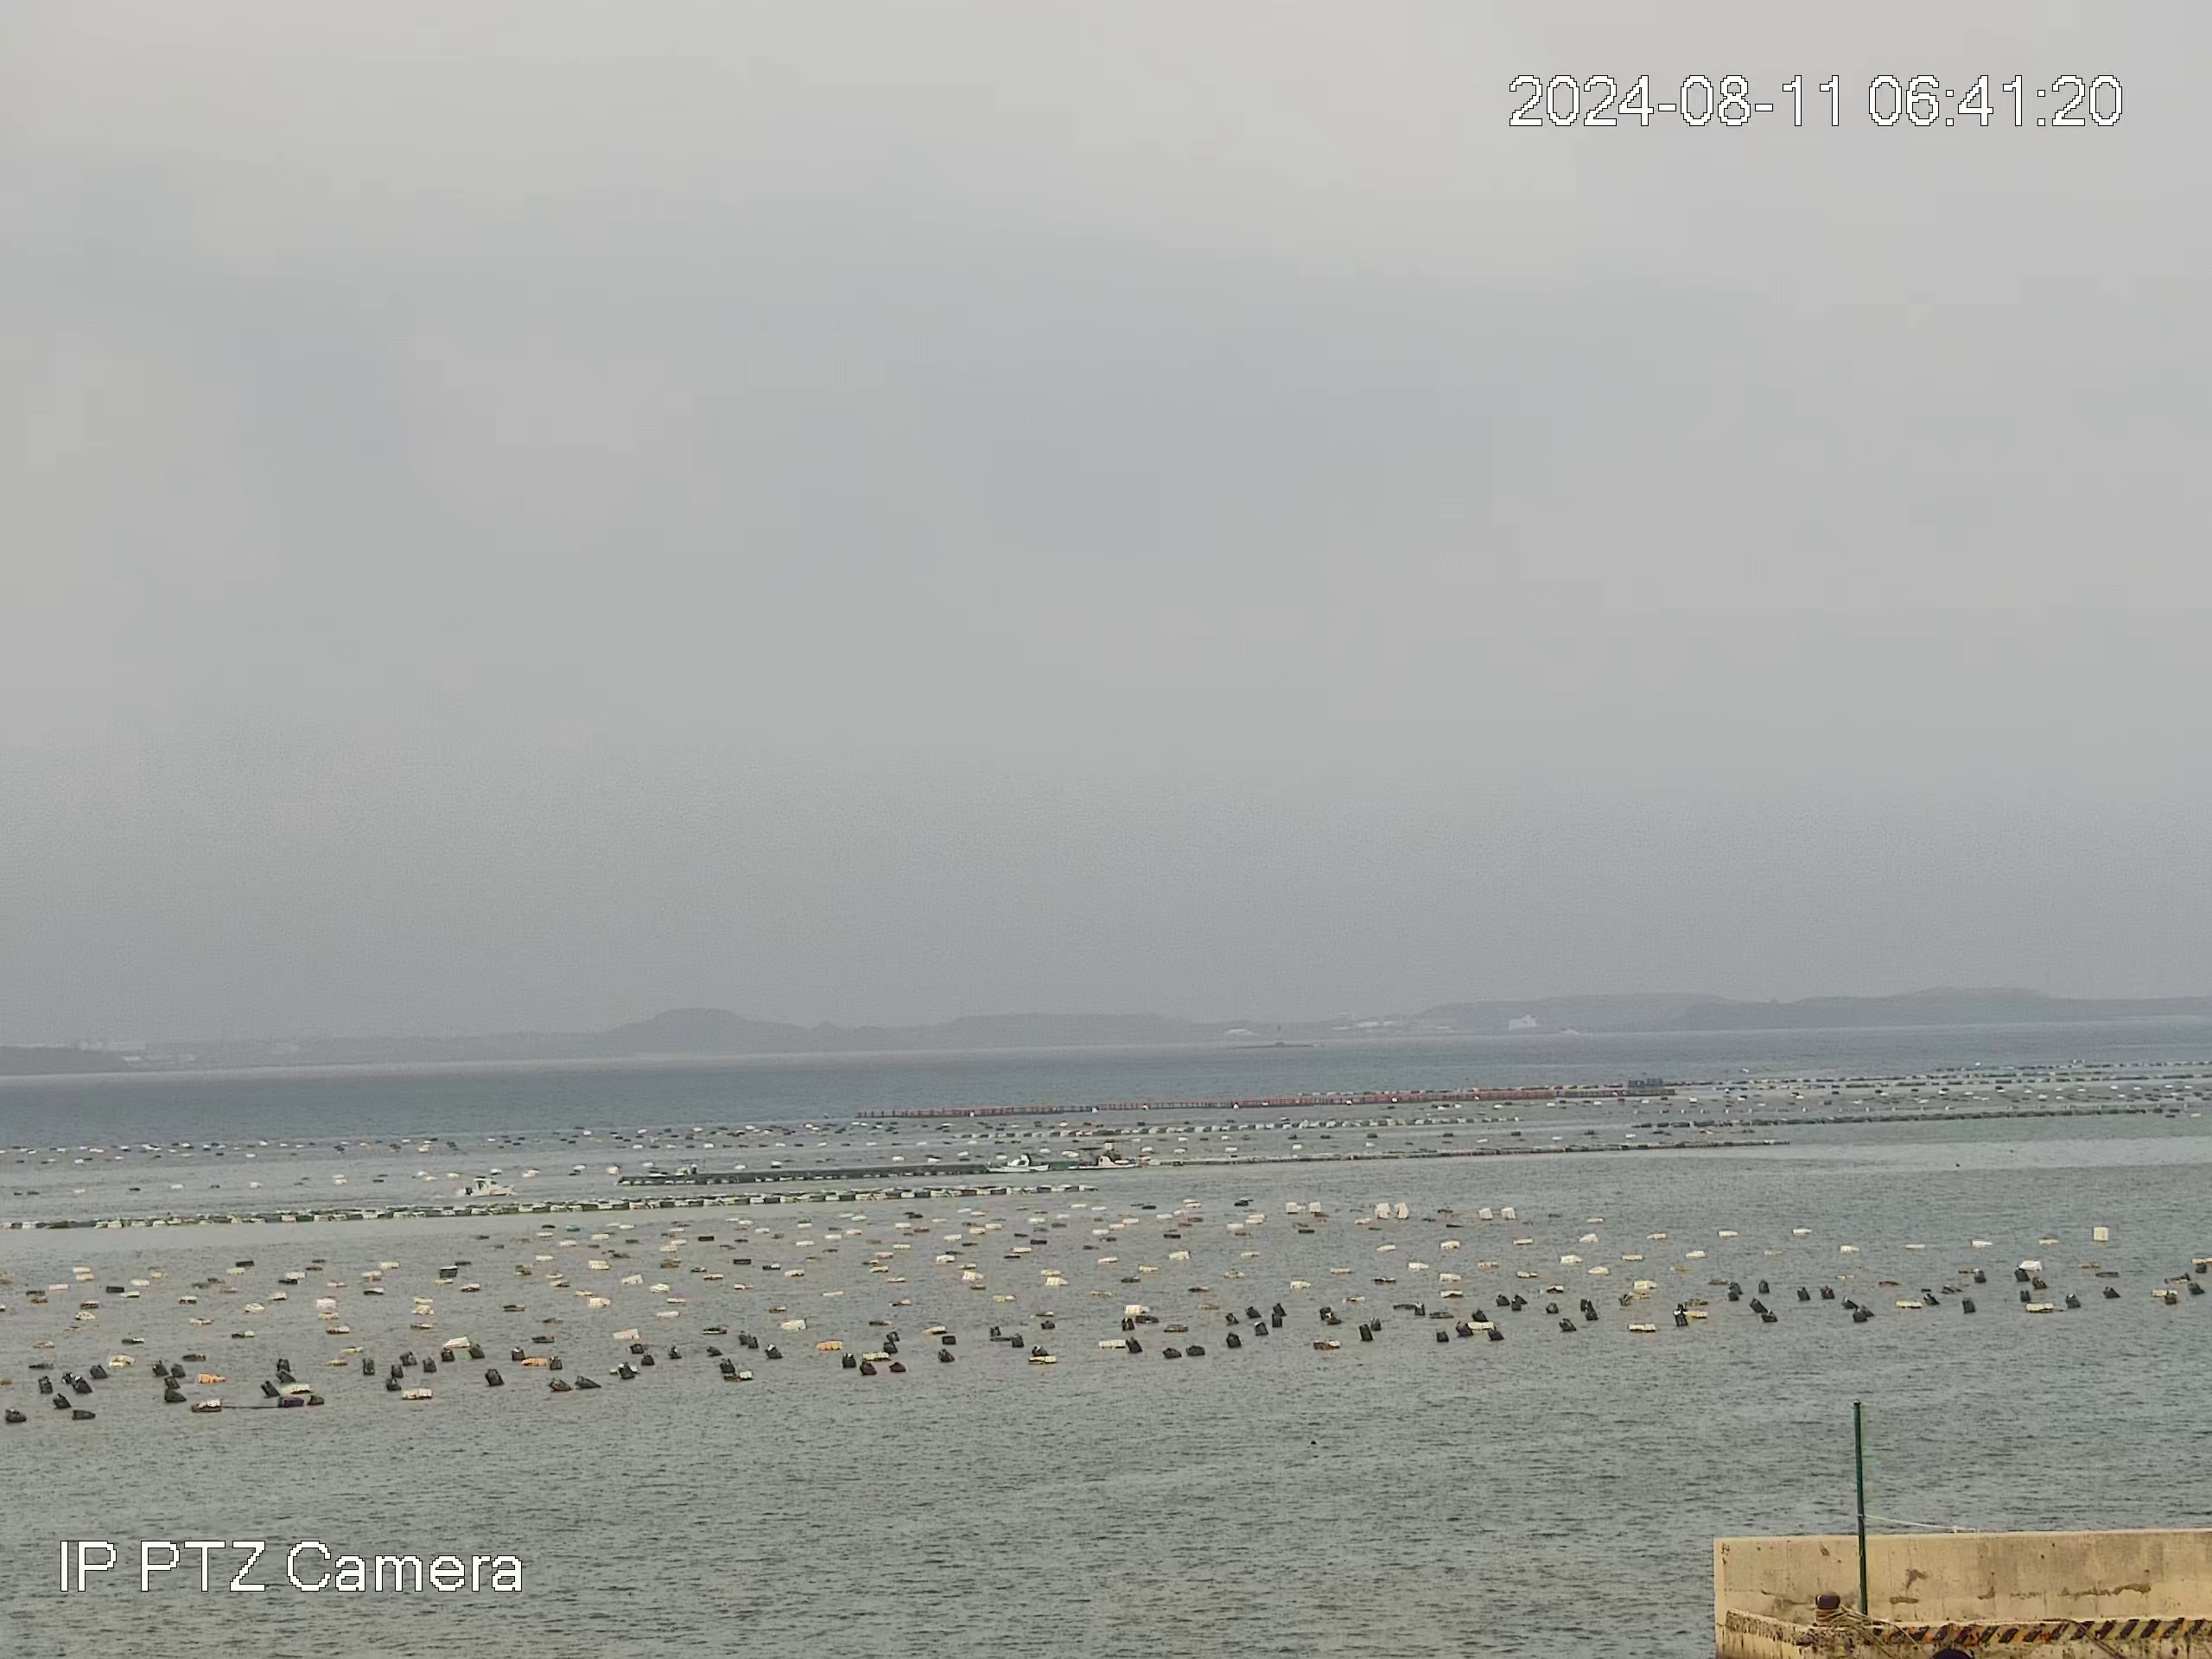boat: (1065, 1147, 1135, 1171), (982, 1153, 1051, 1173), (460, 1174, 514, 1198)
